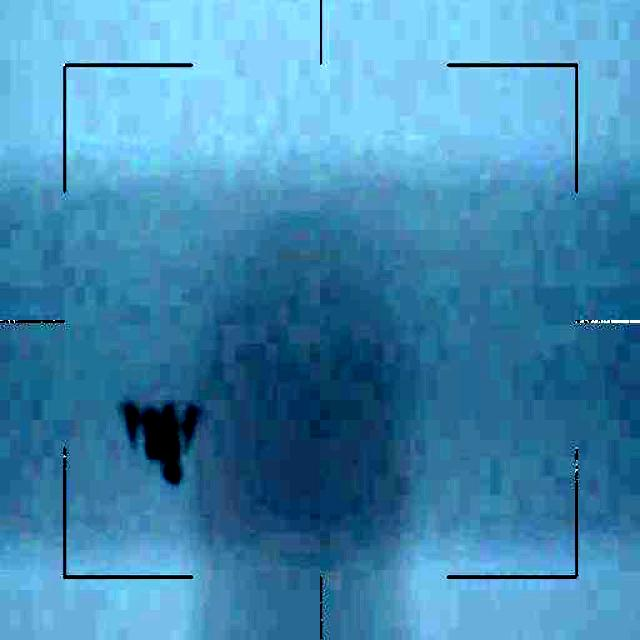bird: (119, 392, 202, 485)
